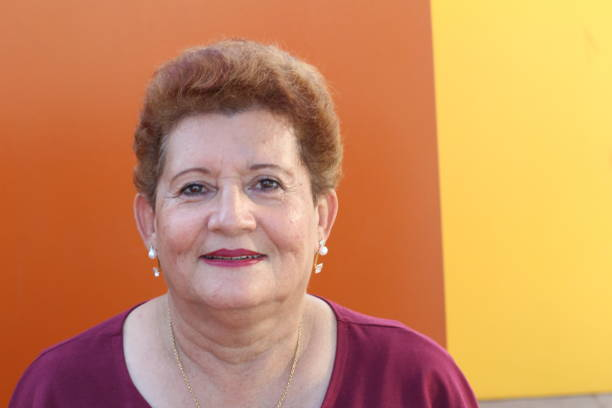face: (161, 132, 306, 320)
